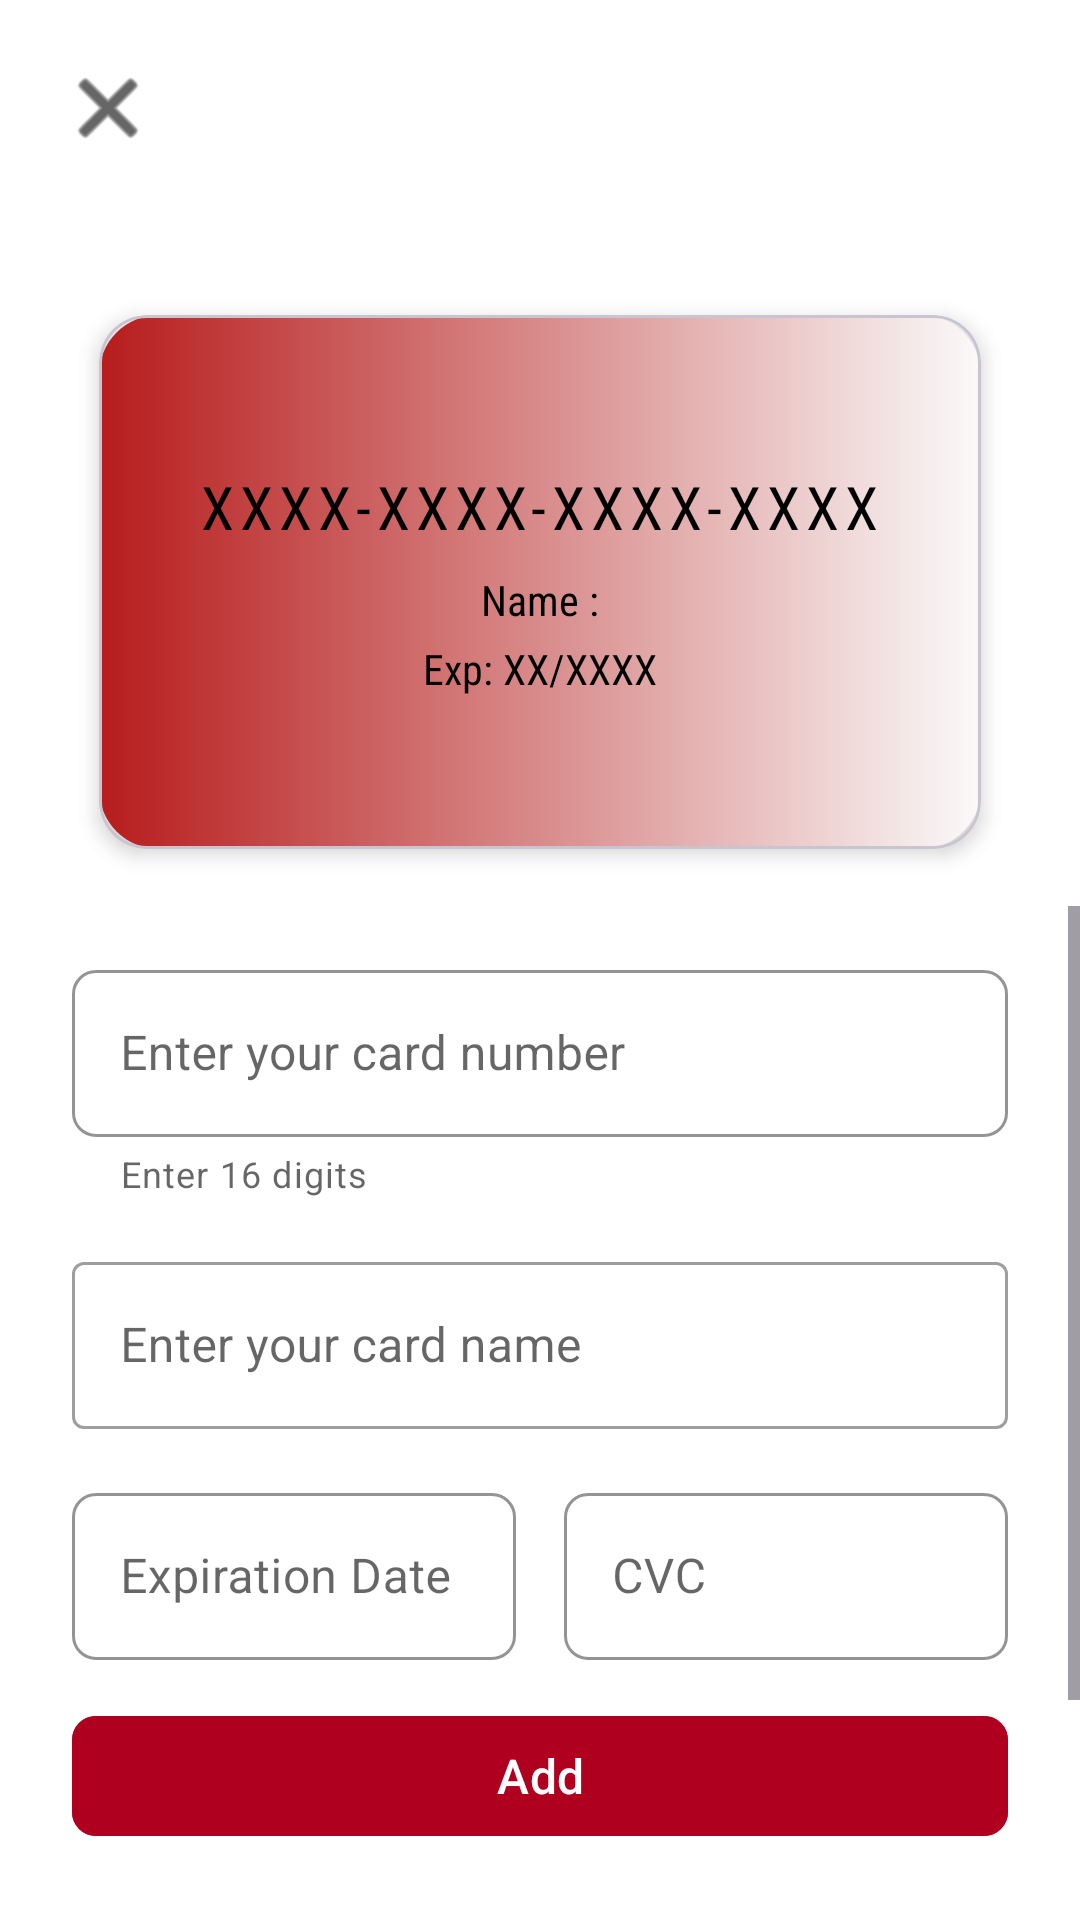

Icon bounding boxes for this 1080 × 1920 phone screenshot, format (x1, y1, x2, y2):
Close: (78, 78, 138, 138)
